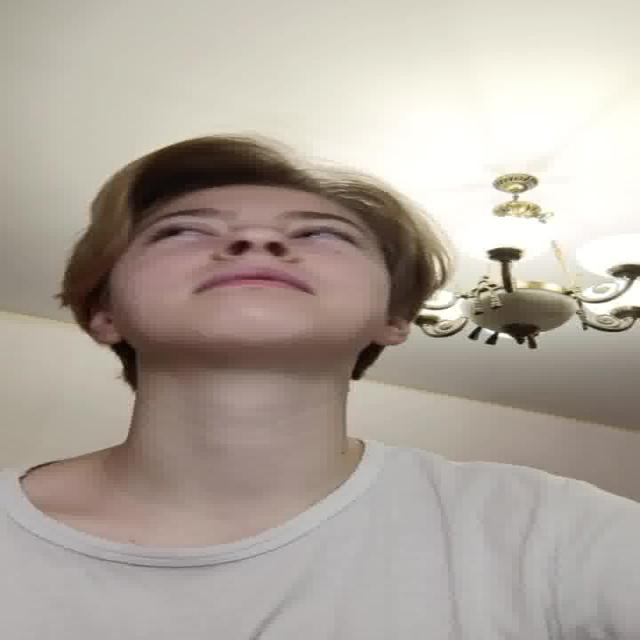earlobe: (87, 331, 127, 346), (367, 331, 404, 347)
eye: (285, 227, 363, 244), (147, 225, 219, 242)
nose: (222, 247, 294, 272)
wholeear: (82, 309, 125, 345), (370, 315, 416, 345)
